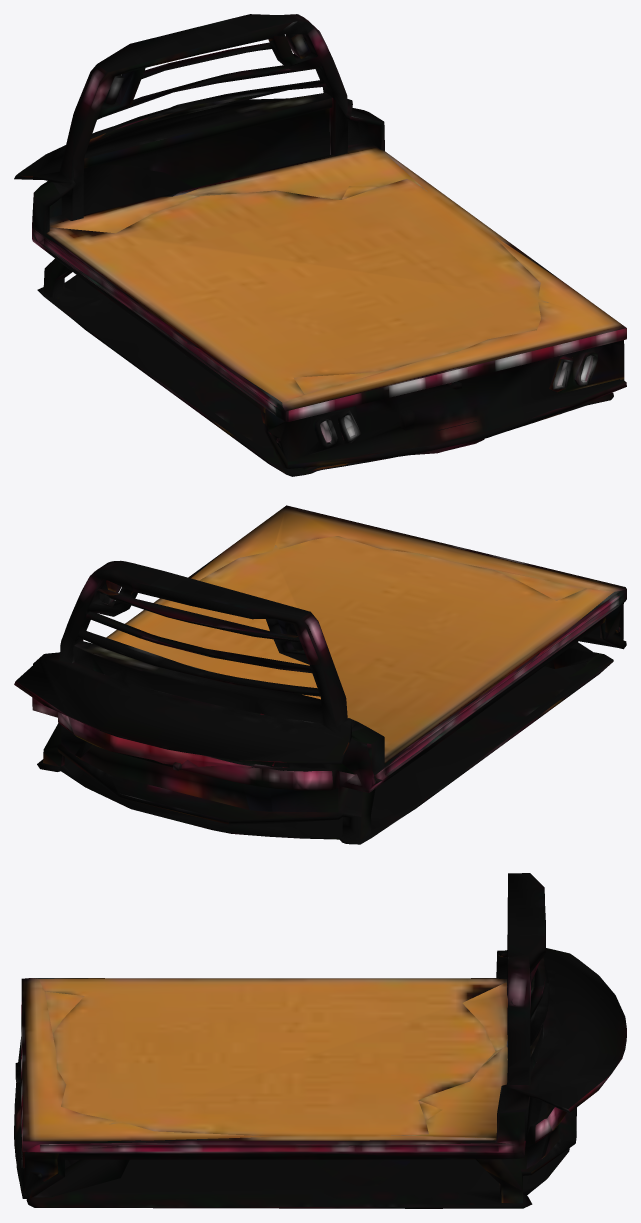
3 views of the same model, one above another, from view 1: azimuth 30°, elevation 25°; view 2: azimuth 150°, elevation 25°; view 3: azimuth 270°, elevation 25° (orthographic).
Parts seen in each view (by area): view 1: texture_pbr_v128; view 2: texture_pbr_v128; view 3: texture_pbr_v128.
Part boxes in pixels (box(x1,y1,x2,y2)): texture_pbr_v128: box(14, 14, 626, 476); texture_pbr_v128: box(14, 505, 626, 844); texture_pbr_v128: box(14, 873, 626, 1208).
Bounding box in the file's own units: 0.6415 × 0.3967 × 1.01.
1 material, 1 textured.
